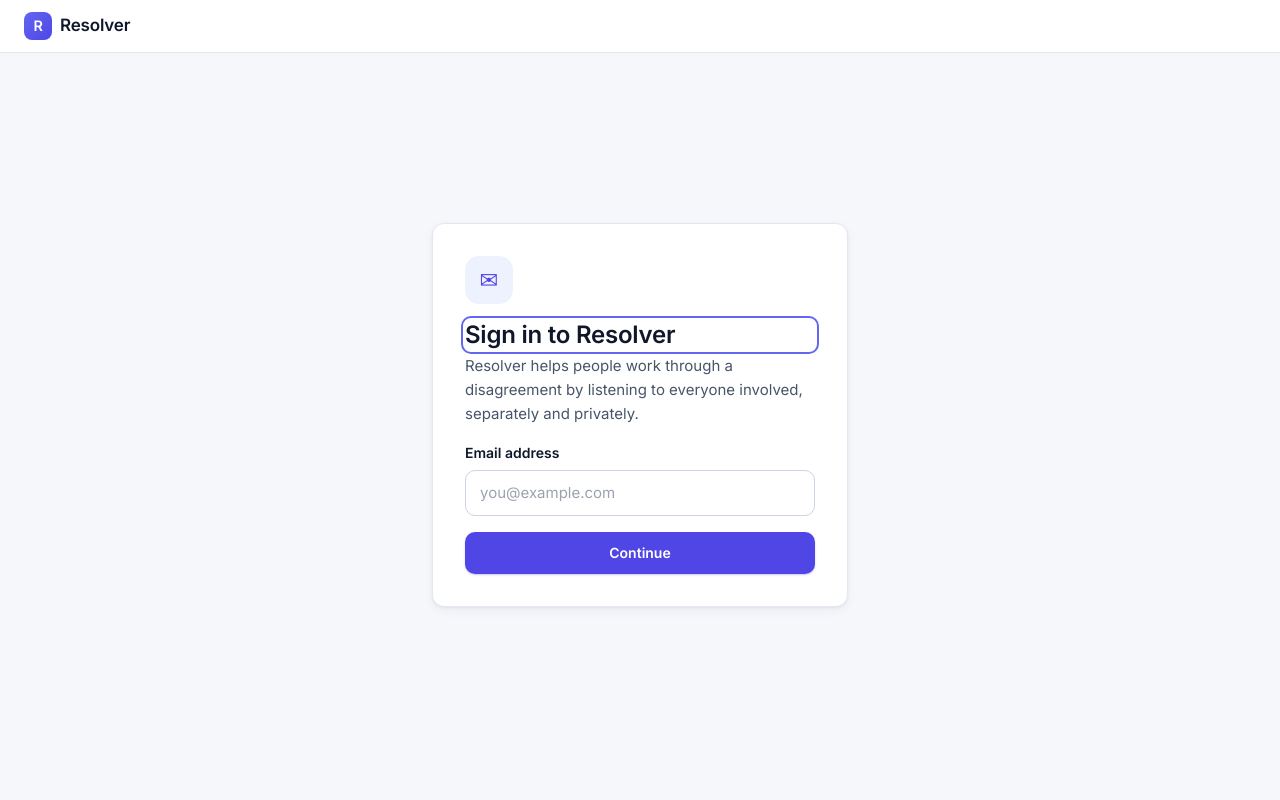
Test: Sign in with an emailed code › accepts a pasted code and keeps the button disabled until complete
The image size is (1280, 800).
Later steps or results of the test are not shown.
Type "a@example.com" into the field labelled "Email address".
click(640, 493); type("a@example.com")  # box top-left (465, 470), bottom-right (815, 516)
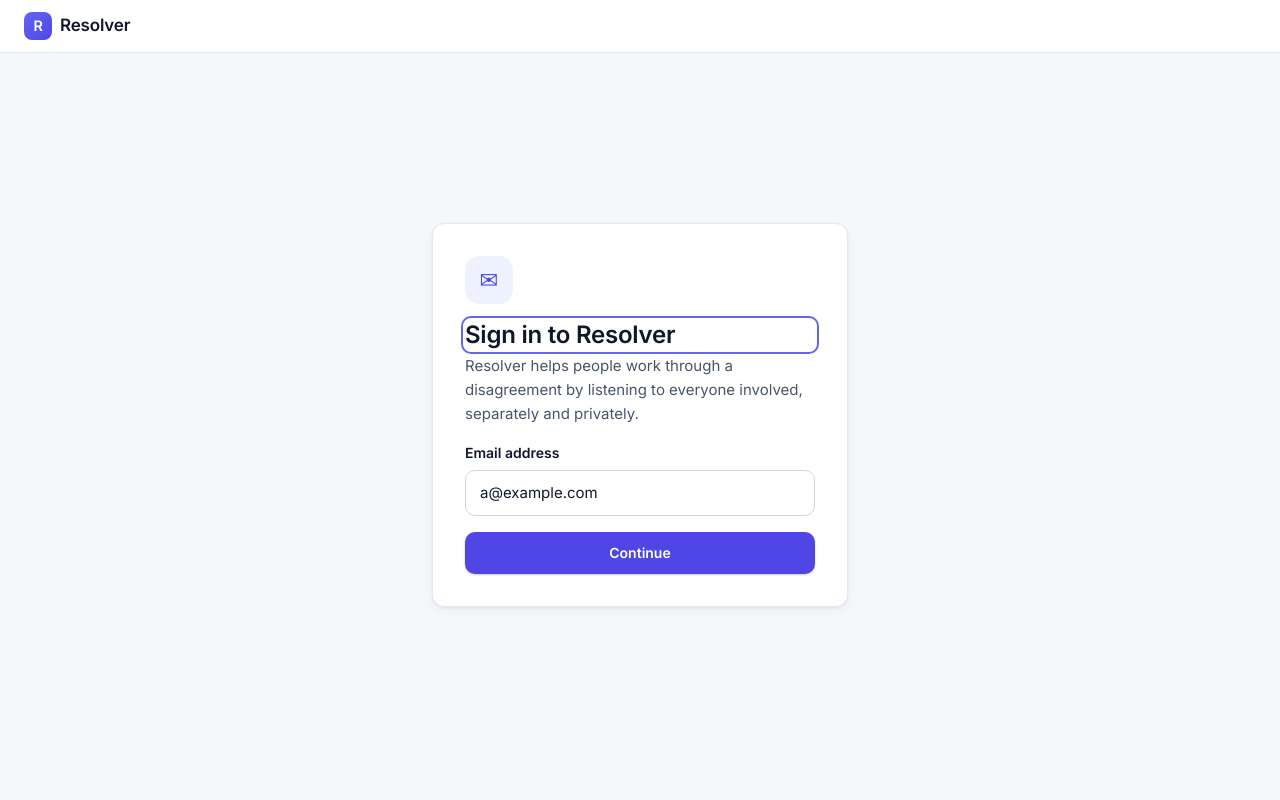
Click the button "Continue".
click(640, 553)  # box top-left (465, 532), bottom-right (815, 574)
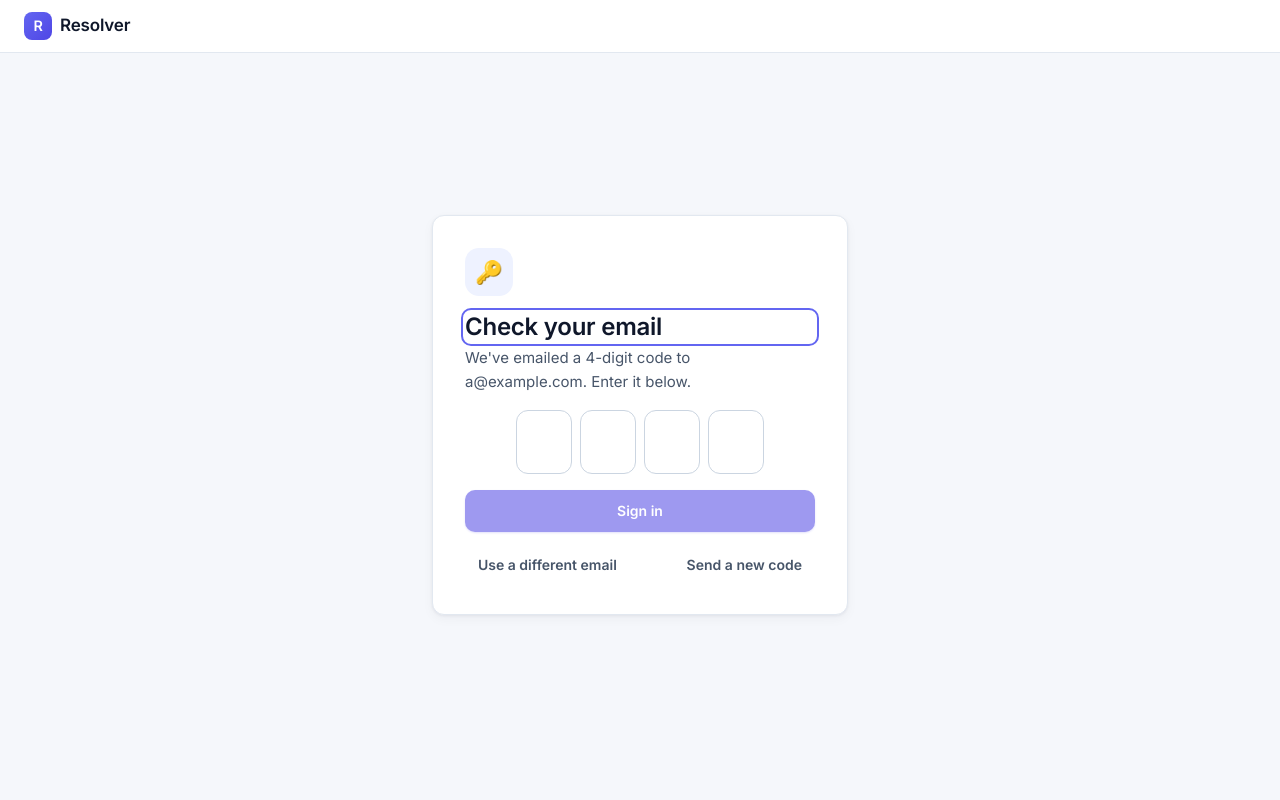
Check: the button "Sign in" is disabled, box top-left (465, 490), bottom-right (815, 532)
